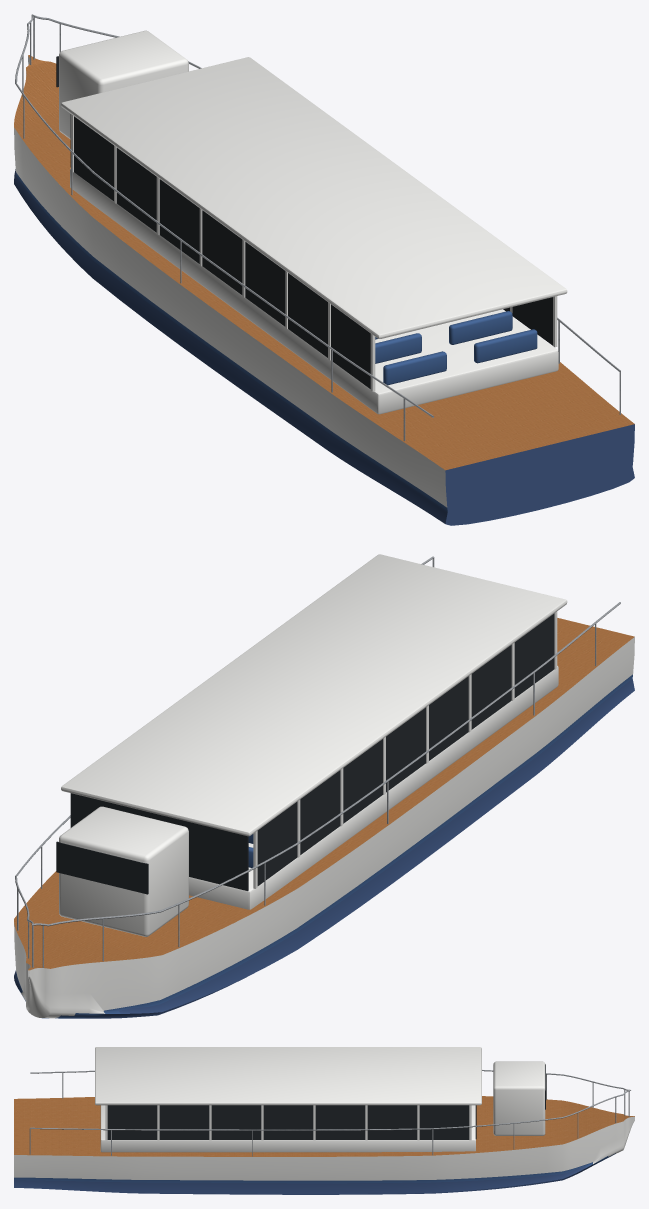
Rendered from boat_tour.gltf.
The picture shows the model from 3 angles, top to bottom: view 1: azimuth 30°, elevation 25°; view 2: azimuth 150°, elevation 25°; view 3: azimuth 270°, elevation 25°; orthographic projection. The views are drawn at different scales.
Parts seen in each view (by area): view 1: boat_tour; view 2: boat_tour; view 3: boat_tour.
Part boxes in pixels (<box>): boat_tour: <box>14,14,634,525</box>; boat_tour: <box>14,554,634,1018</box>; boat_tour: <box>14,1047,634,1194</box>.
Bounding box in the file's own units: 5.12 × 3.7 × 21.5.
6 materials, 2 textured.
